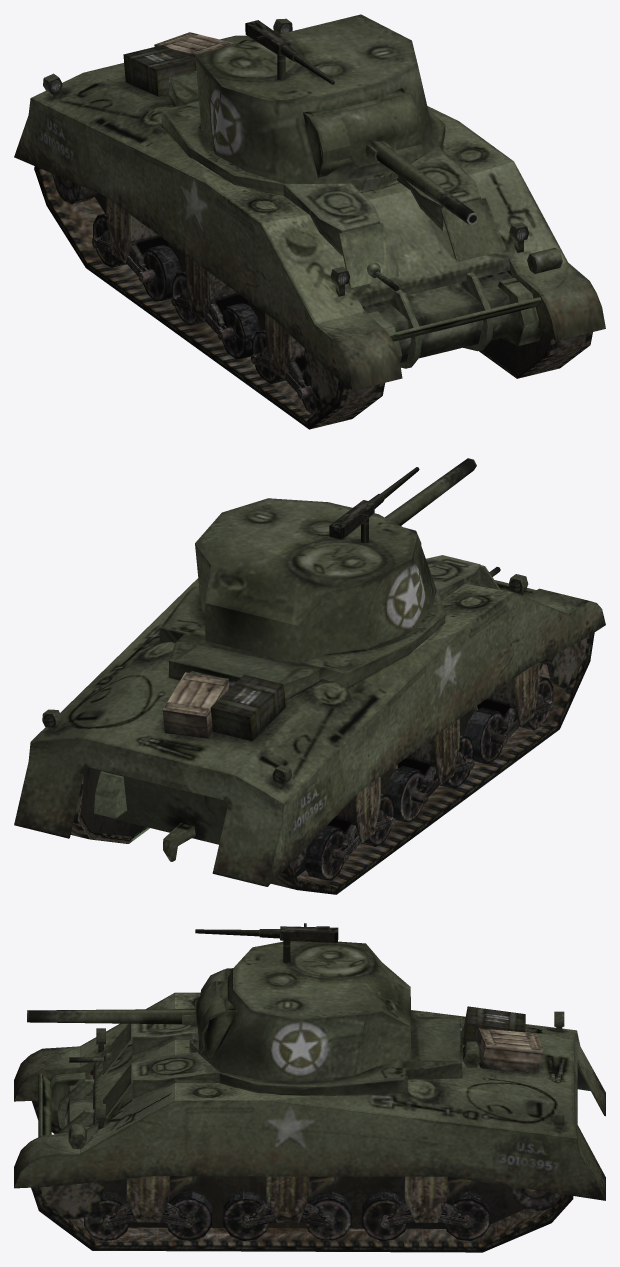
File: tank.fbx
The picture shows the model from 3 angles, top to bottom: view 1: azimuth 30°, elevation 25°; view 2: azimuth 150°, elevation 25°; view 3: azimuth 270°, elevation 25°; orthographic projection. The views are drawn at different scales.
Parts seen in each view (by area): view 1: toy_tank; view 2: toy_tank; view 3: toy_tank.
Boxes of the visible parts, x1,y1,x2,y2 form: toy_tank: [14, 14, 605, 429]; toy_tank: [14, 458, 605, 894]; toy_tank: [14, 923, 605, 1252].
Bounding box in the file's own units: 2.68 × 2.93 × 6.19.
Materials: 1 (1 with a texture image).
